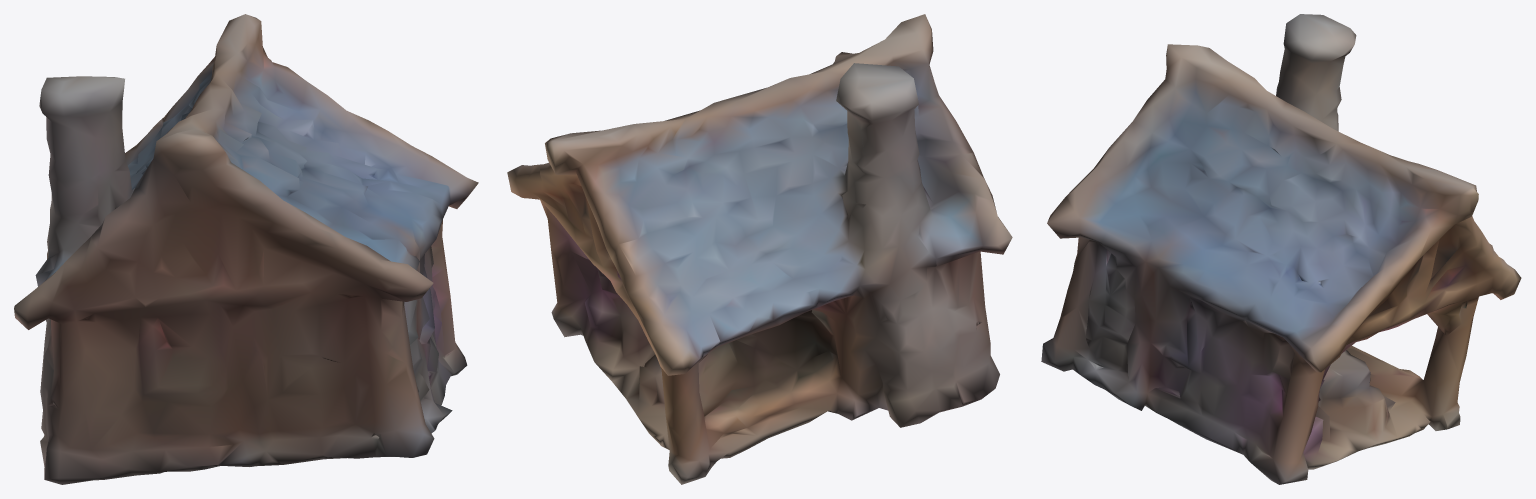
The model's file is oficina_ferreiro.glb.
3 views of the same model, side by side, from view 1: azimuth 30°, elevation 25°; view 2: azimuth 150°, elevation 25°; view 3: azimuth 270°, elevation 25° (orthographic). The views are drawn at different scales.
Bounding box in the file's own units: 1.09 × 0.8441 × 1.06.
